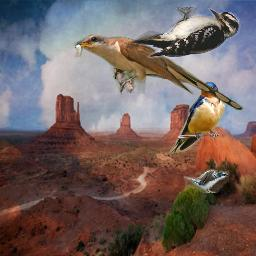Cuckoo: (71, 34, 244, 111)
Swallow: (170, 81, 226, 154), (183, 169, 229, 193)
Woodpecker: (130, 7, 246, 61)
